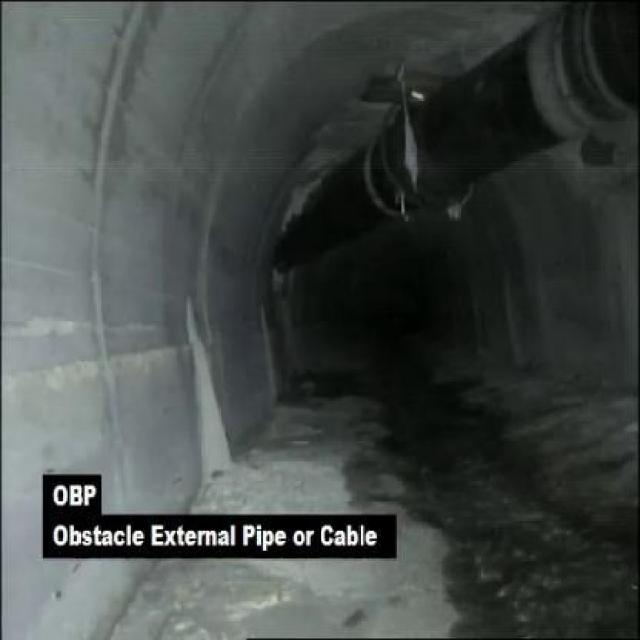Utility intrusion: (270, 8, 638, 280)
